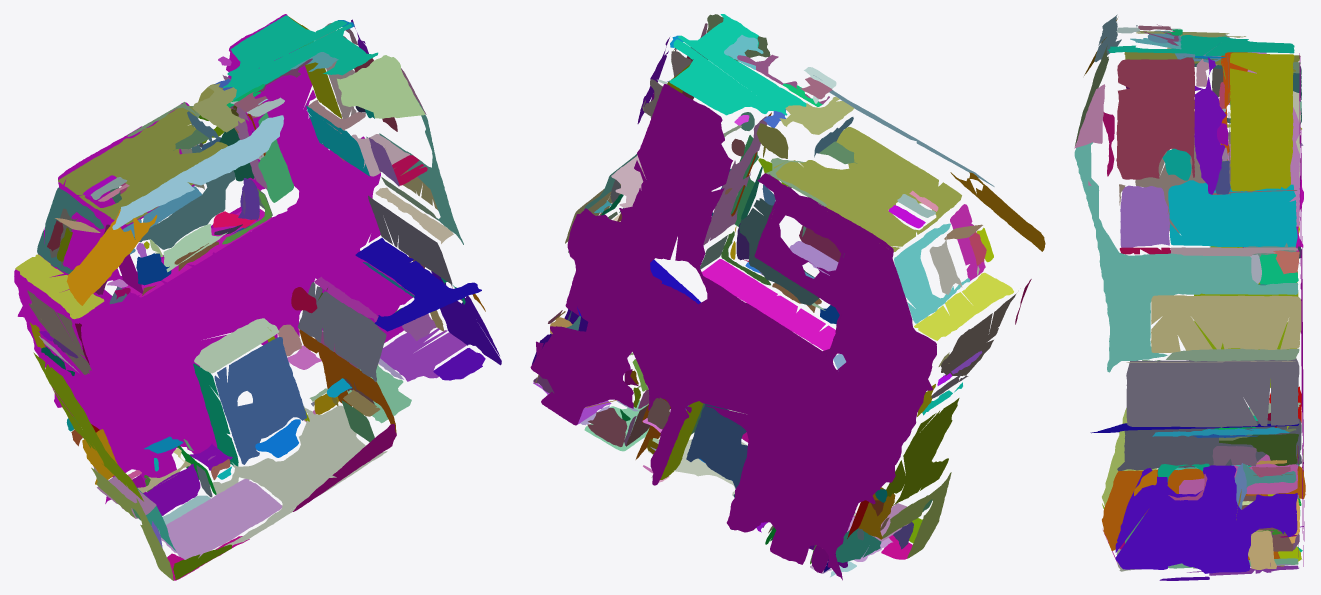
The model's file is pips_scene0000.glb.
3 renders of one model, left to right at view 1: azimuth 30°, elevation 25°; view 2: azimuth 150°, elevation 25°; view 3: azimuth 270°, elevation 25°, orthographic. The views are drawn at different scales.
Bounding box in the file's own units: 8.47 × 8.76 × 3.02.
